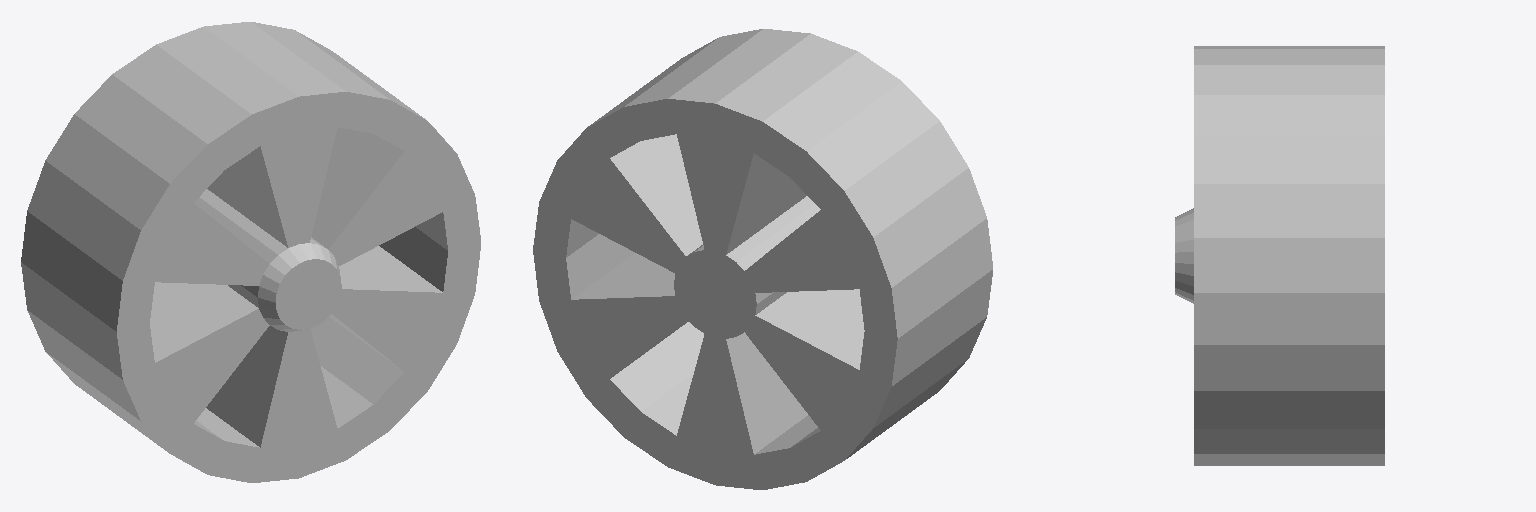
The model's file is cwheel.obj.
3 renders of one model, left to right at view 1: azimuth 30°, elevation 25°; view 2: azimuth 150°, elevation 25°; view 3: azimuth 270°, elevation 25°, orthographic.
Visible parts, largest first — view 1: SketchUp; view 2: SketchUp; view 3: SketchUp.
Part boxes in pixels (left/top/right/bottom): SketchUp: left=21, top=22, right=480, bottom=482; SketchUp: left=533, top=29, right=992, bottom=489; SketchUp: left=1175, top=46, right=1384, bottom=465.
Bounding box in the file's own units: 1.73 × 1.73 × 0.8661.